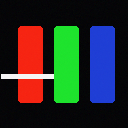3 line_h: (1, 74, 53, 78)
